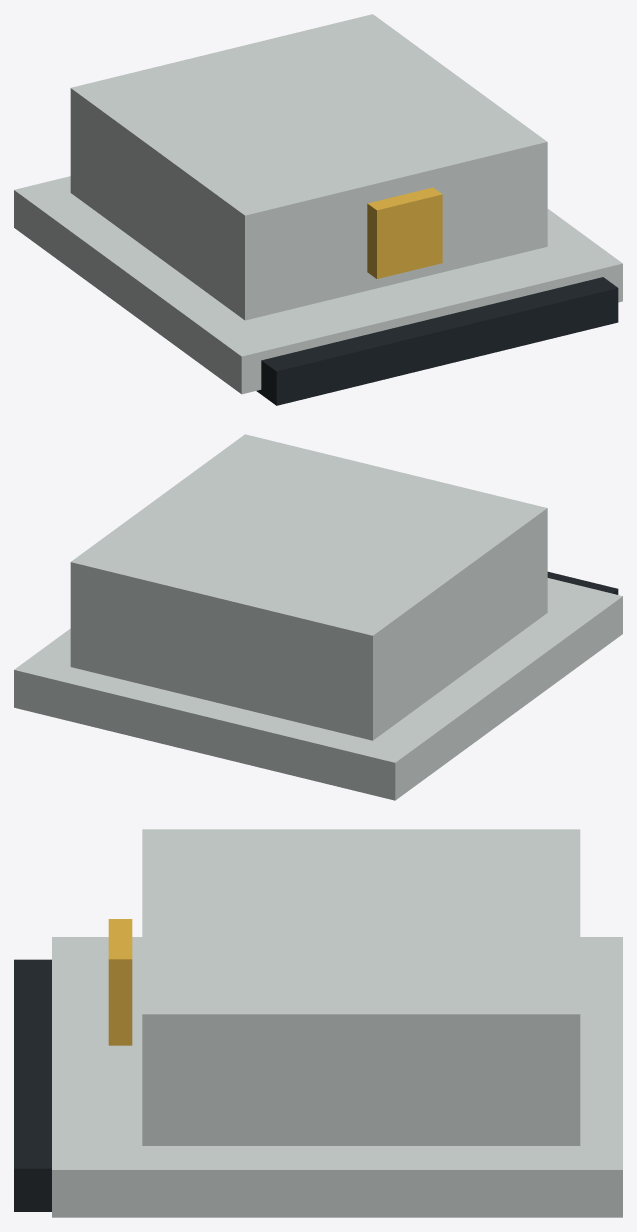
File: captain_cap.glb
The picture shows the model from 3 angles, top to bottom: view 1: azimuth 30°, elevation 25°; view 2: azimuth 150°, elevation 25°; view 3: azimuth 270°, elevation 25°; orthographic projection. The views are drawn at different scales.
Visible parts, largest first — view 1: captain_cap; view 2: captain_cap; view 3: captain_cap.
Part boxes in pixels (x1,y1,x2,y2): captain_cap: (14, 14, 622, 405); captain_cap: (14, 434, 622, 800); captain_cap: (14, 829, 622, 1217).
Size of the model in its own units: 0.58 by 0.215 by 0.64.
